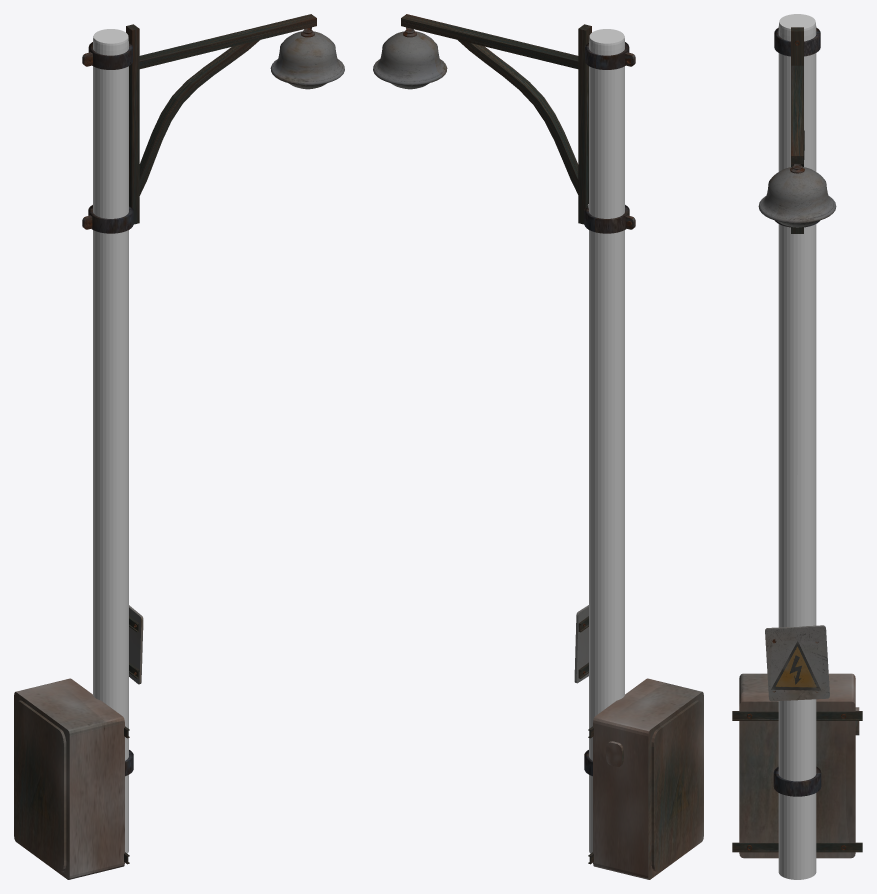
Rendered from Lamppost.dae.
3 renders of one model, left to right at view 1: azimuth 30°, elevation 25°; view 2: azimuth 150°, elevation 25°; view 3: azimuth 270°, elevation 25°, orthographic. The views are drawn at different scales.
Parts seen in each view (by area): view 1: Cylinder, Cube.008, Cube.003, Sphere, Cylinder.001, Cube.009; view 2: Cylinder, Cube.008, Cube.003, Sphere, Cylinder.001, Cube.009; view 3: Cylinder, Cube.008, Cube.009, Sphere, Cube.003, Cylinder.001, Cube.007, Cube.006.
Part boxes in pixels (x1,y1,x2,y2): Cylinder: (93, 29, 128, 853); Cube.008: (14, 678, 124, 879); Cube.003: (126, 14, 316, 224); Sphere: (270, 31, 344, 85); Cylinder.001: (88, 42, 133, 776); Cube.009: (129, 605, 143, 684); Cylinder: (587, 29, 624, 853); Cube.008: (593, 678, 703, 879); Cube.003: (401, 14, 591, 224); Sphere: (373, 31, 447, 85); Cylinder.001: (584, 42, 629, 776); Cube.009: (574, 605, 588, 683); Cylinder: (778, 14, 816, 879); Cube.008: (739, 673, 859, 858); Cube.009: (765, 625, 829, 701); Sphere: (758, 167, 836, 223); Cube.003: (791, 27, 804, 233); Cylinder.001: (773, 27, 821, 796); Cube.007: (732, 842, 862, 852); Cube.006: (732, 711, 862, 720).
Size of the model in its own units: 2.82 by 1.02 by 7.34.
